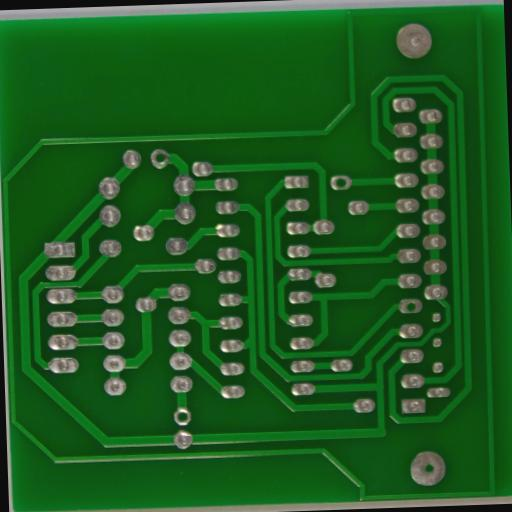missing_hole: (152, 147, 170, 168), (421, 460, 437, 475), (174, 407, 189, 422), (404, 298, 420, 312), (334, 175, 348, 187)
